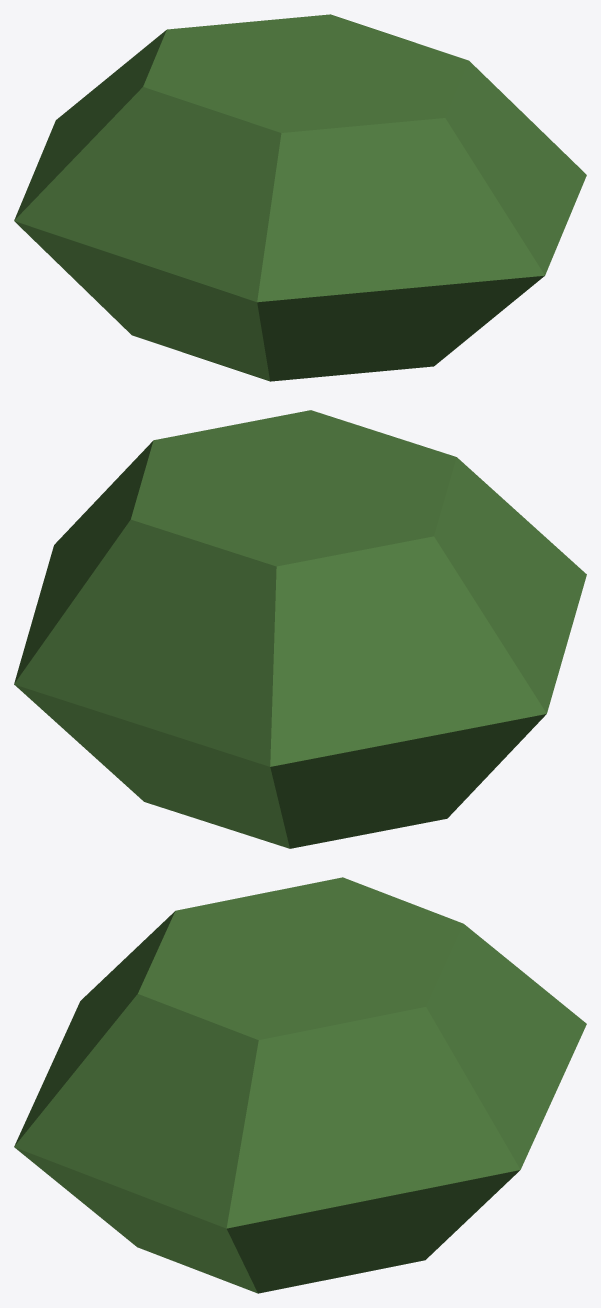
Rendered from SM_Item_Gem_01.glb.
3 views of the same model, one above another, from view 1: azimuth 30°, elevation 25°; view 2: azimuth 150°, elevation 25°; view 3: azimuth 270°, elevation 25° (orthographic). The views are drawn at different scales.
Visible parts, largest first — view 1: SM_Item_Gem_01; view 2: SM_Item_Gem_01; view 3: SM_Item_Gem_01.
Boxes of the visible parts, x1=… form: SM_Item_Gem_01: x1=14, y1=14, x2=586, y2=381; SM_Item_Gem_01: x1=14, y1=410, x2=586, y2=848; SM_Item_Gem_01: x1=14, y1=877, x2=586, y2=1293.
Bounding box in the file's own units: 0.00134 × 0.000663 × 0.00125.
